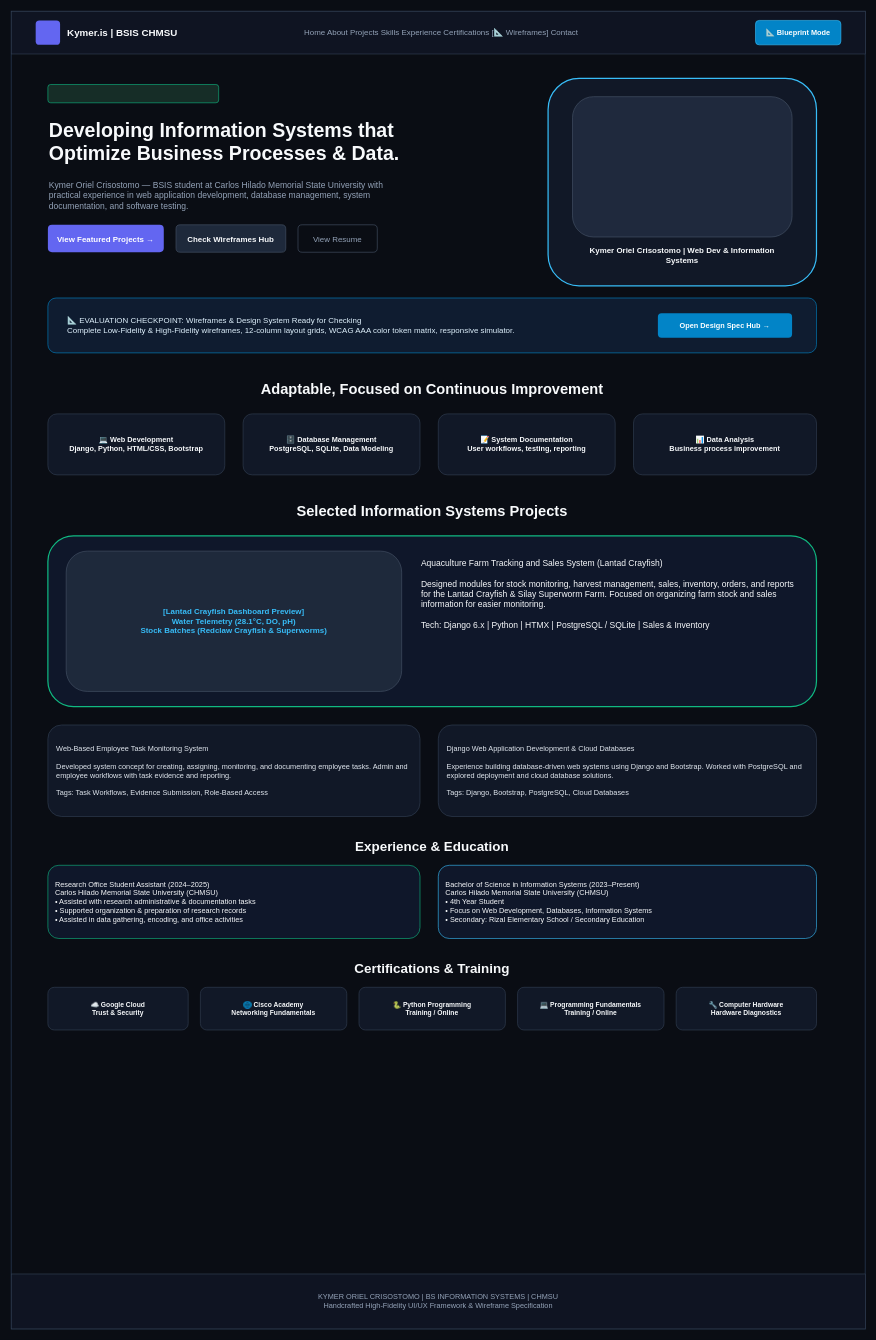
Some shapes in this 876 by 1340 pixel diagram are drawn without their labels. Each missing label, with the box of its shape:
[Kymer Oriel Crisostomo Portrait]: (572, 96, 792, 237)
KC: (35, 20, 60, 45)
● 4th-Year BS Information Systems • CHMSU: (47, 84, 219, 103)
